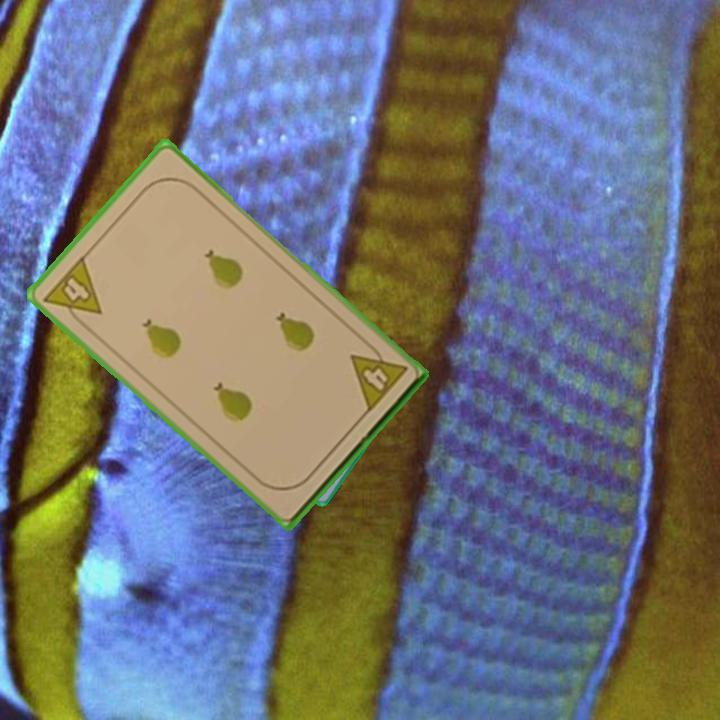4p: (39, 252, 105, 333), (346, 337, 410, 416)
